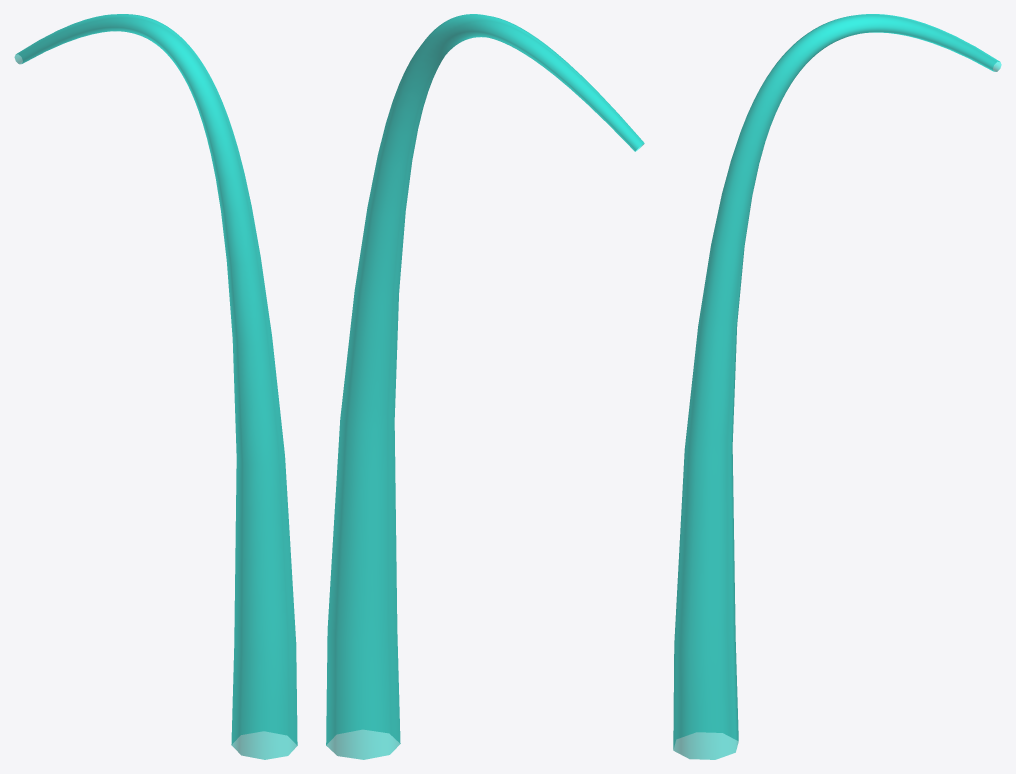
Rendered from cone_eau_fontaine.fbx.
3 renders of one model, left to right at view 1: azimuth 30°, elevation 25°; view 2: azimuth 210°, elevation 25°; view 3: azimuth 270°, elevation 25°, orthographic. The views are drawn at different scales.
Visible parts, largest first — view 1: sweep11; view 2: sweep11; view 3: sweep11.
Part boxes in pixels (x1,y1,x2,y2): sweep11: (14,14,297,759); sweep11: (326,14,644,759); sweep11: (673,14,1001,759).
Size of the model in its own units: 136 by 654 by 275.
